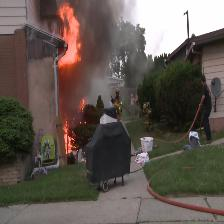fire: (52, 99, 105, 165), (48, 1, 84, 83)
smoke: (89, 0, 157, 98)
